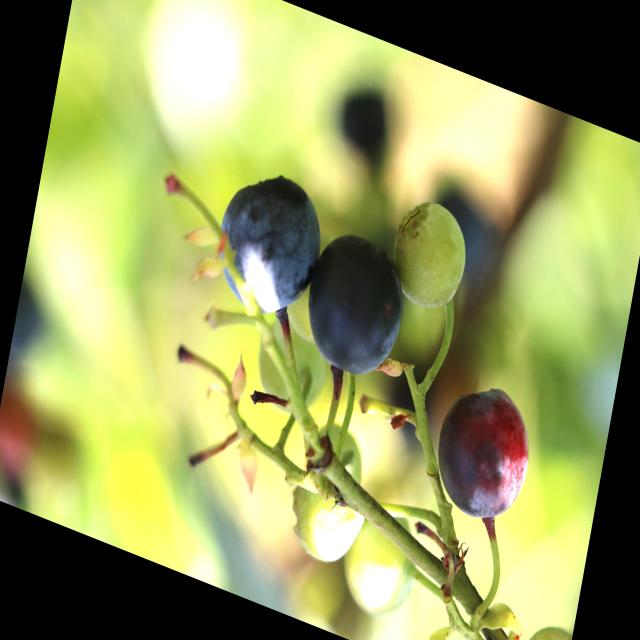blueberry: (202, 146, 334, 338), (294, 216, 418, 396)
blueberry-halfripe: (426, 366, 540, 534)
blueberry-unripe: (384, 188, 476, 323), (337, 500, 422, 631), (281, 464, 366, 573), (503, 604, 573, 640)
